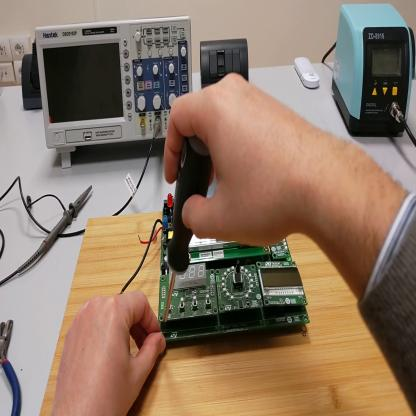hand: (164, 72, 307, 248), (55, 292, 166, 411)
low voltage board: (122, 194, 310, 343)
oscilloscope: (37, 16, 191, 167)
oscilloscope probe tip: (19, 183, 91, 278)
pliers: (1, 320, 22, 415)
screwdriver-: (161, 140, 212, 333)
socket: (24, 54, 44, 111)
welder station: (333, 8, 413, 137)
working area: (42, 214, 411, 416)
